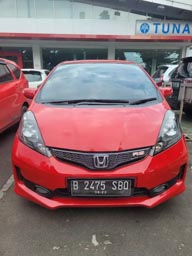plat: (71, 180, 131, 190)
